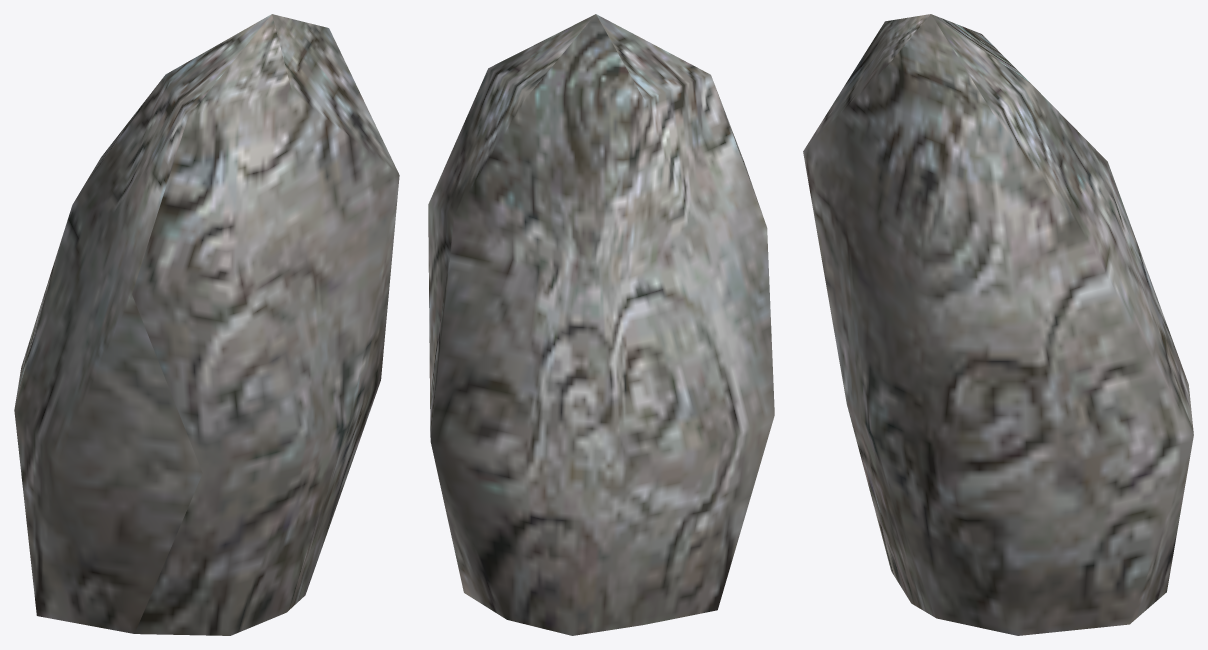
The model's file is standingstone_c.glb.
3 renders of one model, left to right at view 1: azimuth 30°, elevation 25°; view 2: azimuth 150°, elevation 25°; view 3: azimuth 270°, elevation 25°, orthographic. The views are drawn at different scales.
Parts seen in each view (by area): view 1: Object034; view 2: Object034; view 3: Object034.
Boxes of the visible parts, x1,y1,x2,y2 form: Object034: (14, 14, 399, 635); Object034: (428, 14, 774, 635); Object034: (803, 14, 1193, 635).
Size of the model in its own units: 2.01 by 3.22 by 1.94.
Materials: 1 (1 with a texture image).
